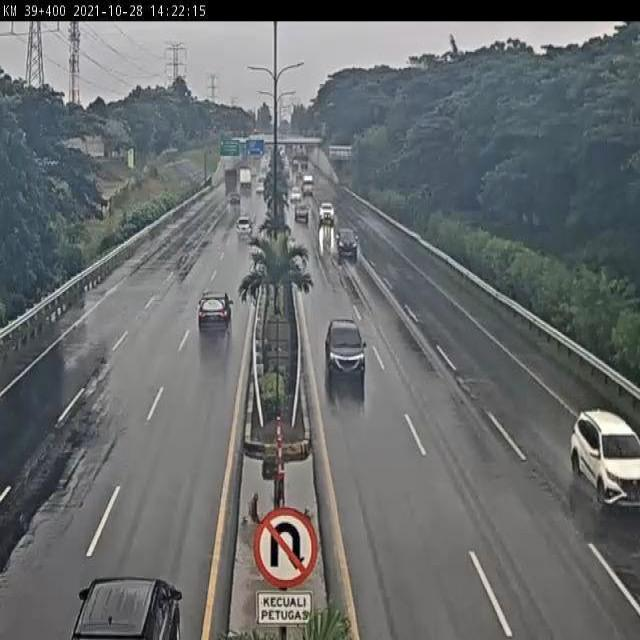car: (567, 406, 640, 511), (322, 317, 368, 383), (197, 289, 235, 332), (334, 226, 360, 262), (235, 213, 254, 239)
